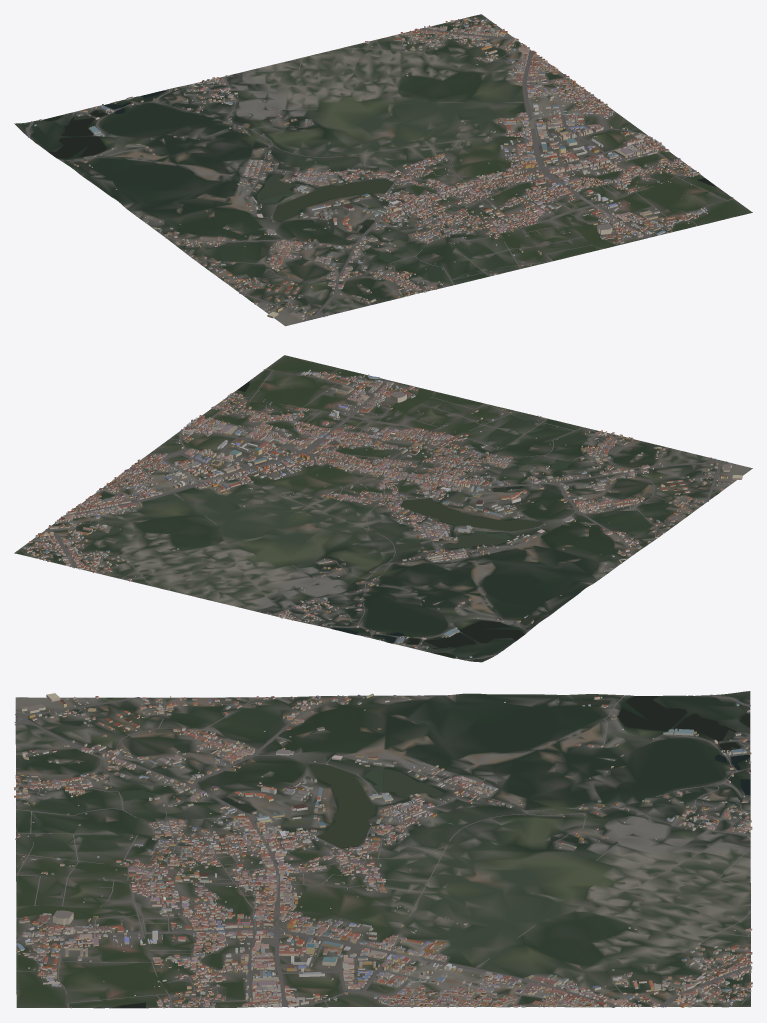
The picture shows the model from 3 angles, top to bottom: view 1: azimuth 30°, elevation 25°; view 2: azimuth 150°, elevation 25°; view 3: azimuth 270°, elevation 25°; orthographic projection. The views are drawn at different scales.
Parts seen in each view (by area): view 1: ground, buildings, roads, water; view 2: ground, buildings, roads, water; view 3: ground, buildings, roads, water.
Part boxes in pixels (x1=…): ground: x1=14, y1=14, x2=752, y2=326; buildings: x1=34, y1=17, x2=733, y2=320; roads: x1=26, y1=17, x2=733, y2=319; water: x1=35, y1=90, x2=722, y2=301; ground: x1=14, y1=355, x2=752, y2=662; buildings: x1=23, y1=369, x2=742, y2=658; roads: x1=22, y1=368, x2=727, y2=660; water: x1=237, y1=377, x2=719, y2=658; ground: x1=15, y1=691, x2=750, y2=1008; buildings: x1=14, y1=693, x2=752, y2=1008; roads: x1=14, y1=694, x2=751, y2=1007; water: x1=96, y1=695, x2=750, y2=1007.
Size of the model in its own units: 2822 by 38.07 by 2820.
